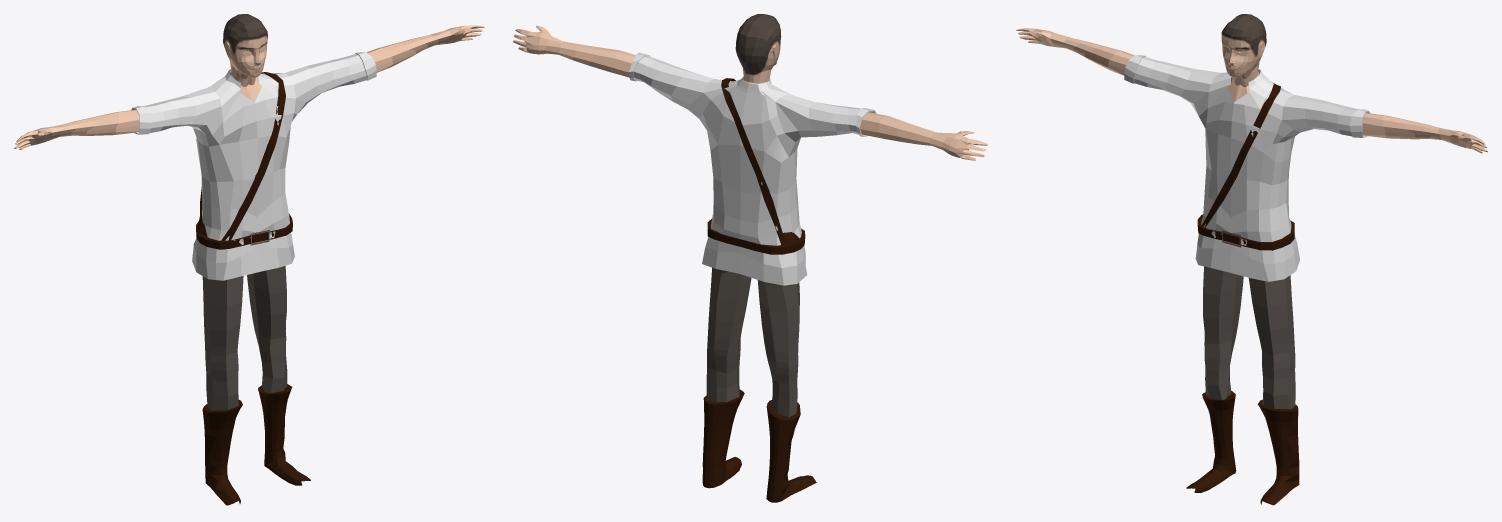
Rendered from Perso.fbx.
The picture shows the model from 3 angles, left to right: view 1: azimuth 30°, elevation 25°; view 2: azimuth 150°, elevation 25°; view 3: azimuth 330°, elevation 25°; orthographic projection.
Visible parts, largest first — view 1: polySurface12; view 2: polySurface12; view 3: polySurface12.
Part boxes in pixels (x1,y1,x2,y2): polySurface12: (14,14,484,505); polySurface12: (513,14,987,502); polySurface12: (1016,14,1487,505).
Size of the model in its own units: 5.66 by 5.47 by 0.8366.
Materials: 1 (1 with a texture image).
